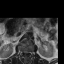CCS_severe_stenosis: (24, 48, 26, 57)
LFS_stenosis: (28, 48, 30, 55)
LLS_normal: (26, 48, 28, 55)
RFS_normal: (20, 48, 22, 55)
RLS_stenosis: (22, 48, 24, 55)
